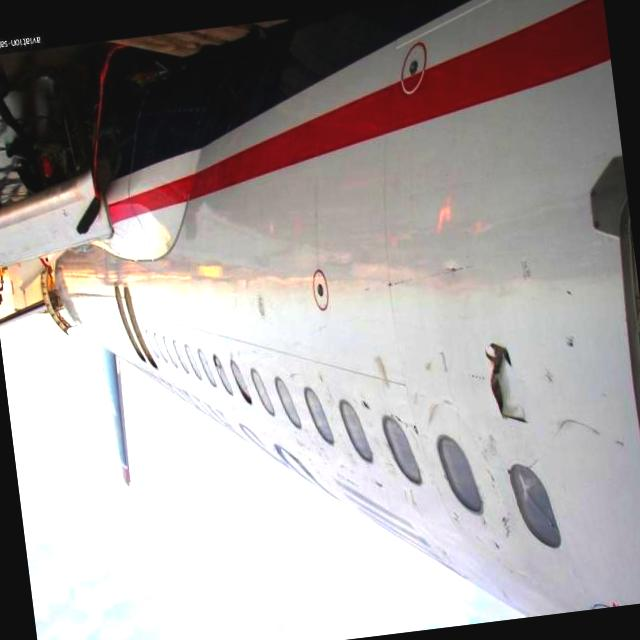crack: (476, 332, 532, 430)
